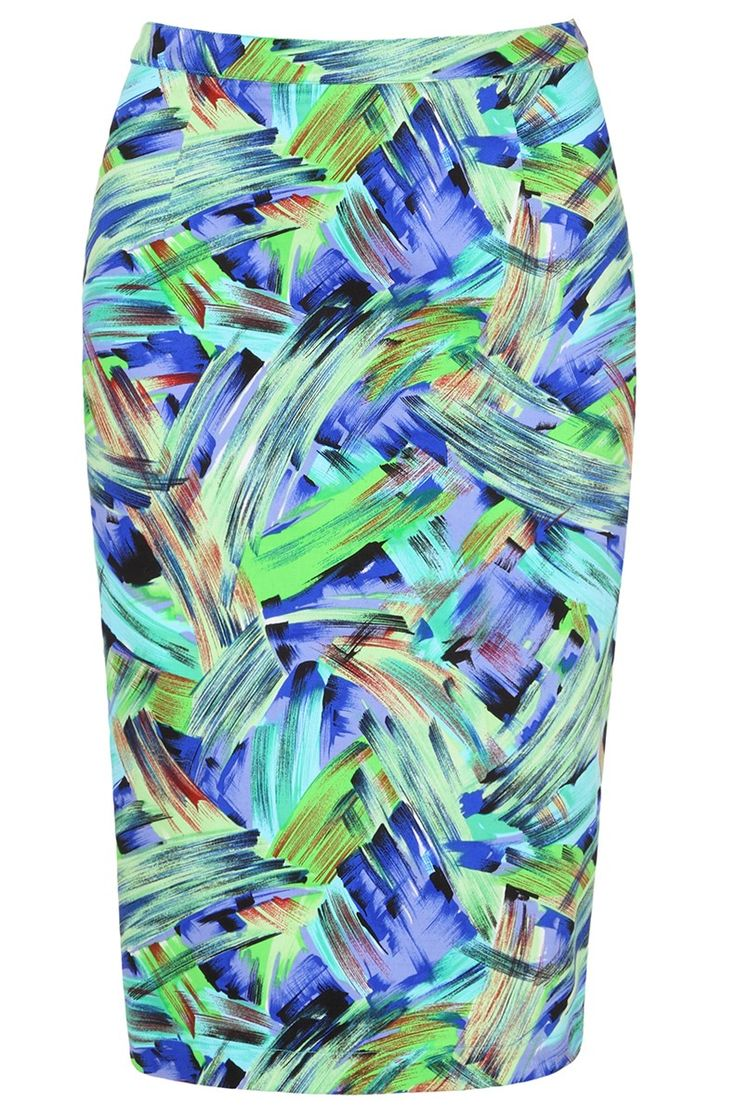C_skirt: (63, 11, 656, 1097)
